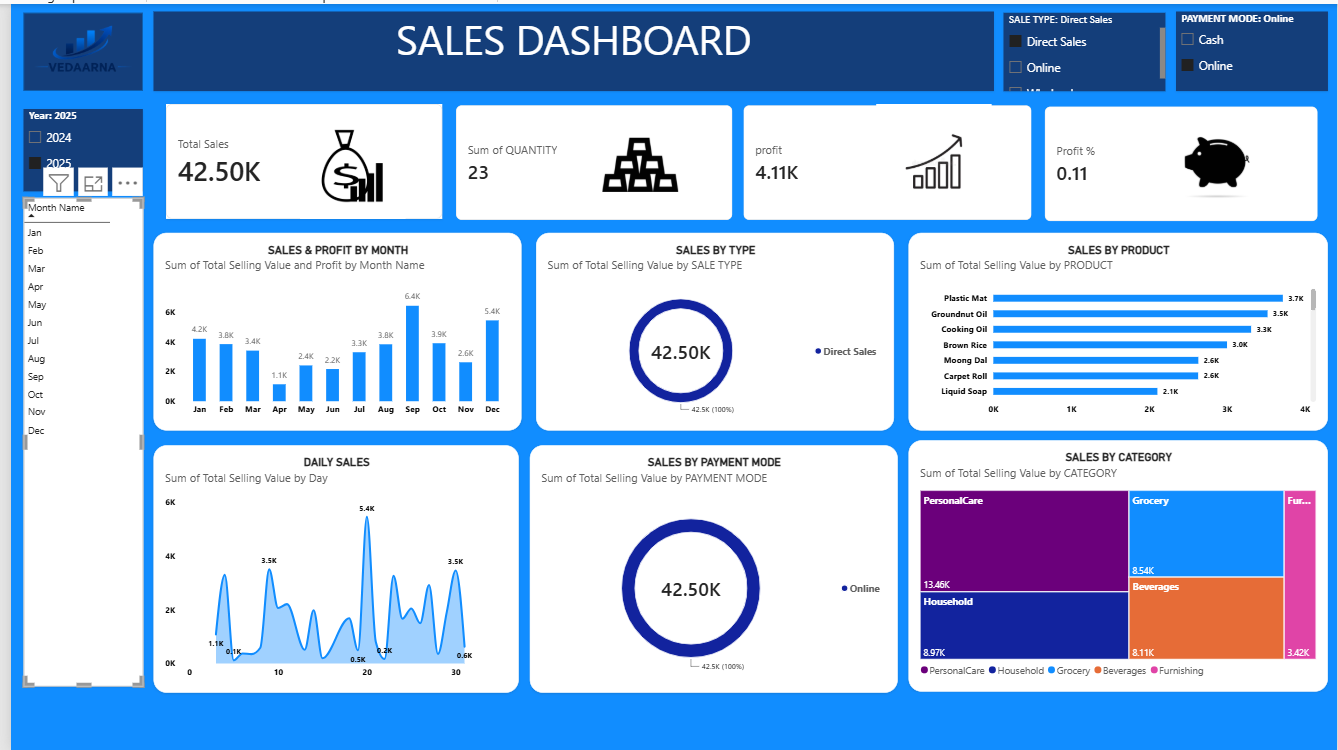

Layout of this report page (visuals, bound fields, positions):
{"tool":"powerbi","page":{"name":"Page 1","canvas":[1920,1080],"ordinal":0},"visuals":[{"type":"shape","box":[18.5,12.3,172.9,113.2],"z":0},{"type":"textbox","box":[205.8,10.3,1216.5,115.3],"z":1000},{"type":"slicer","fields":{"Values":["Table_1.Year"]},"box":[18.5,152.3,172.9,119.4],"z":2000},{"type":"tableEx","fields":{"Values":["Table_1.Month Name"]},"box":[18.1,280.5,173.7,707],"z":3000},{"type":"slicer","fields":{"Values":["Table_1.SALE TYPE"]},"box":[1436.7,12.3,234.6,113.2],"z":4000},{"type":"slicer","fields":{"Values":["Table_1.PAYMENT MODE"]},"box":[1685.8,10.3,220.2,115.3],"z":5000},{"type":"cardVisual","fields":{"Data":["Sum(Table_1.Total Selling Value)"]},"box":[224.4,144.1,400,166],"z":6000},{"type":"cardVisual","fields":{"Data":["Sum(Table_1.QUANTITY)"]},"box":[644.3,146.1,400,166],"z":7000},{"type":"cardVisual","fields":{"Data":["Table_1.profit %"]},"box":[1060,146.1,417.8,166.7],"z":8000},{"type":"columnChart","title":"SALES & PROFIT BY MONTH","fields":{"Category":["Table_1.Month Name"],"Y":["Sum(Table_1.Total Selling Value)"]},"box":[205.8,330.7,533.1,286.1],"z":9000},{"type":"areaChart","title":"DAILY SALES","fields":{"Category":["Table_1.Day"],"Y":["Sum(Table_1.Total Selling Value)"]},"box":[205.8,638.1,529,358.1],"z":10000},{"type":"clusteredBarChart","title":"SALES BY PRODUCT","fields":{"Category":["Table_2.PRODUCT"],"Y":["Sum(Table_1.Total Selling Value)"]},"box":[1298.8,330.7,607.2,286.1],"z":11000},{"type":"treemap","title":"SALES BY CATEGORY","fields":{"Group":["Table_2.CATEGORY"],"Values":["Sum(Table_1.Total Selling Value)"]},"box":[1298.8,631.9,607.2,364.3],"z":12000},{"type":"donutChart","title":"SALES BY TYPE","fields":{"Category":["Table_1.SALE TYPE"],"Y":["Sum(Table_1.Total Selling Value)"]},"box":[759.5,330.7,518.7,286.1],"z":13000},{"type":"donutChart","title":"SALES BY PAYMENT MODE","fields":{"Category":["Table_1.PAYMENT MODE"],"Y":["Sum(Table_1.Total Selling Value)"]},"box":[750.3,638.1,533.1,358.1],"z":14000},{"type":"image","box":[18.5,12.3,172.9,113.2],"z":15000},{"type":"image","box":[345.8,158.5,298.5,152.3],"z":16000},{"type":"image","box":[761.6,193.5,298.5,78.2],"z":17000},{"type":"image","box":[1150.6,144.1,370.5,166.7],"z":18000},{"type":"cardVisual","fields":{"Data":["Table_1.Profit %"]},"box":[1496.4,148.2,395.2,166.7],"z":19000},{"type":"image","box":[1671.4,179.1,148.2,113.2],"z":20000}]}

Visuals, with their boxes in screenshot pixels (x1, y1, x2, y2):
shape: 23 12 141 89
textbox: 151 11 983 89
slicer - Table_1.Year: 23 108 141 189
tableEx - Table_1.Month Name: 23 195 142 679
slicer - Table_1.SALE TYPE: 993 12 1154 89
slicer - Table_1.PAYMENT MODE: 1164 11 1314 89
cardVisual - Sum(Table_1.Total Selling Value): 164 102 438 216
cardVisual - Sum(Table_1.QUANTITY): 451 103 725 217
cardVisual - Table_1.profit %: 736 103 1021 217
"SALES & PROFIT BY MONTH" columnChart: 151 230 516 425
"DAILY SALES" areaChart: 151 440 513 685
"SALES BY PRODUCT" clusteredBarChart: 899 230 1314 425
"SALES BY CATEGORY" treemap: 899 436 1314 685
"SALES BY TYPE" donutChart: 530 230 885 425
"SALES BY PAYMENT MODE" donutChart: 524 440 888 685
image: 23 12 141 89
image: 247 112 451 216
image: 531 136 736 189
image: 798 102 1051 216
cardVisual - Table_1.Profit %: 1034 105 1304 219
image: 1154 126 1255 203
